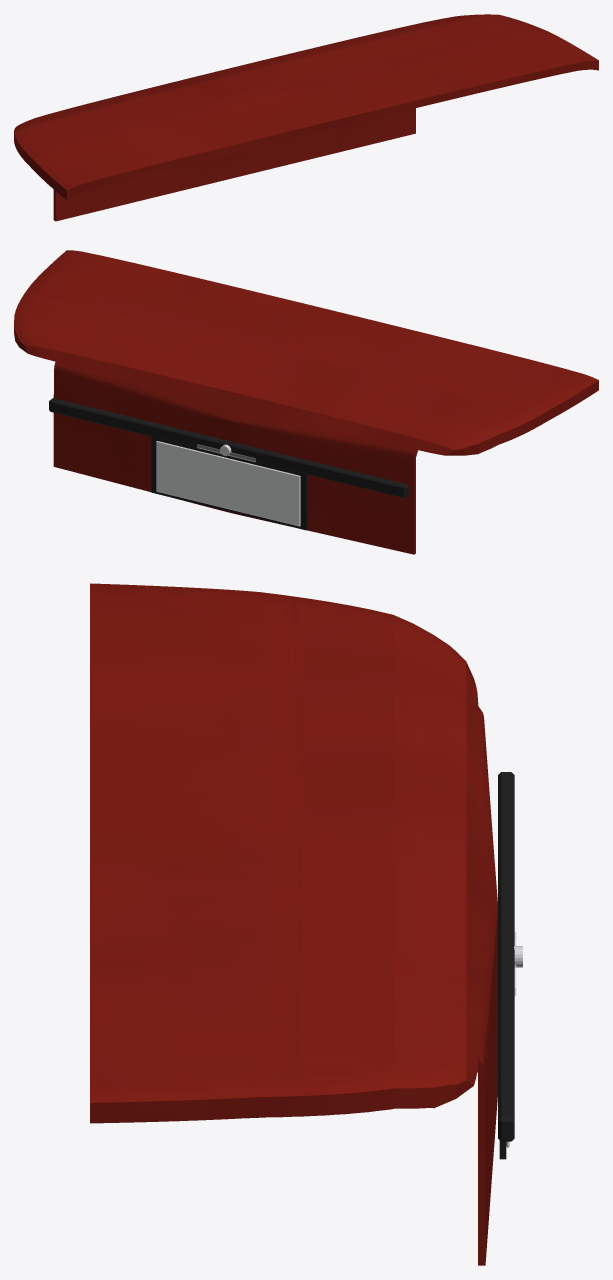
The model's file is tampa_porta_malas.glb.
3 renders of one model, top to bottom at view 1: azimuth 30°, elevation 25°; view 2: azimuth 150°, elevation 25°; view 3: azimuth 270°, elevation 25°, orthographic. The views are drawn at different scales.
Visible parts, largest first — view 1: tampa_porta_malas_pintura; view 2: tampa_porta_malas_pintura, tampa_porta_malas_placa, tampa_porta_malas_plastico_preto; view 3: tampa_porta_malas_pintura, tampa_porta_malas_plastico_preto.
Part boxes in pixels (x1,y1,x2,y2): tampa_porta_malas_pintura: [14, 14, 598, 221]; tampa_porta_malas_pintura: [14, 250, 598, 554]; tampa_porta_malas_placa: [156, 441, 300, 526]; tampa_porta_malas_plastico_preto: [49, 398, 408, 530]; tampa_porta_malas_pintura: [90, 583, 497, 1265]; tampa_porta_malas_plastico_preto: [498, 772, 514, 1159].
Bounding box in the file's own units: 1.48 × 0.3389 × 0.52.
Materials: 5 (1 with a texture image).
